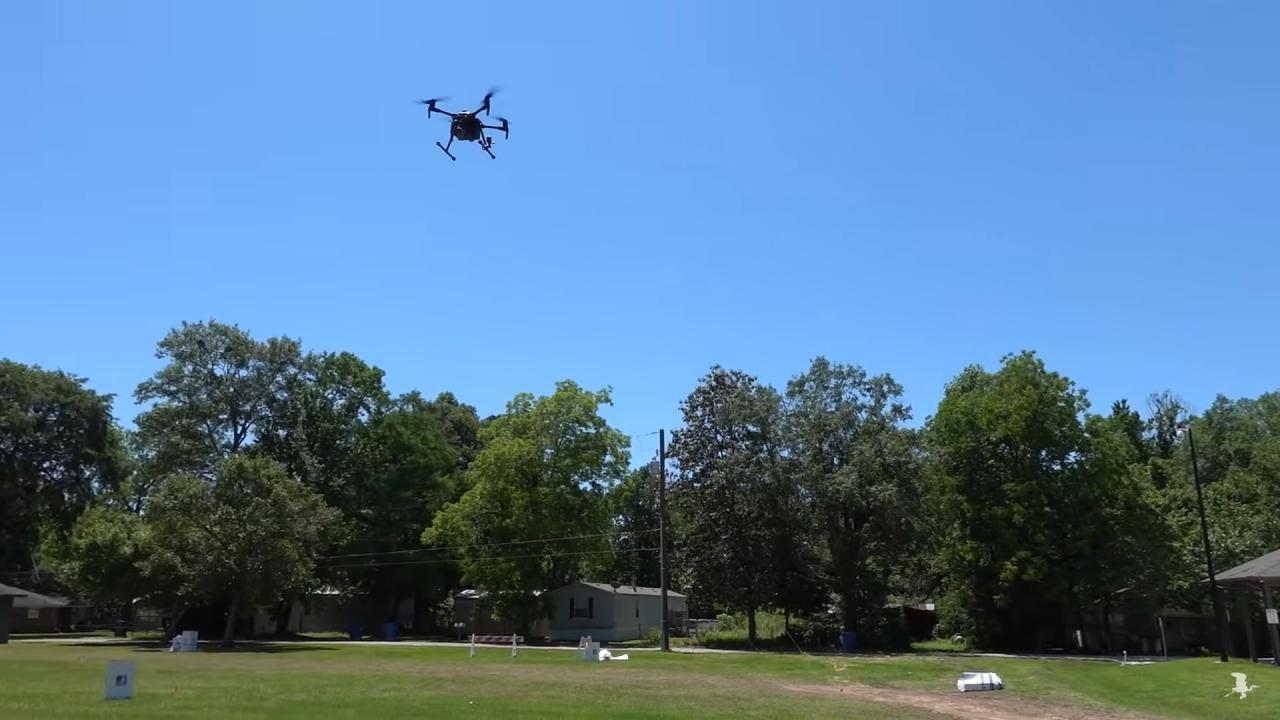Drone: (404, 76, 526, 172)
